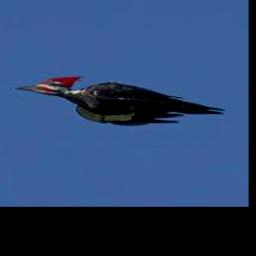Woodpecker: (16, 75, 226, 125)
